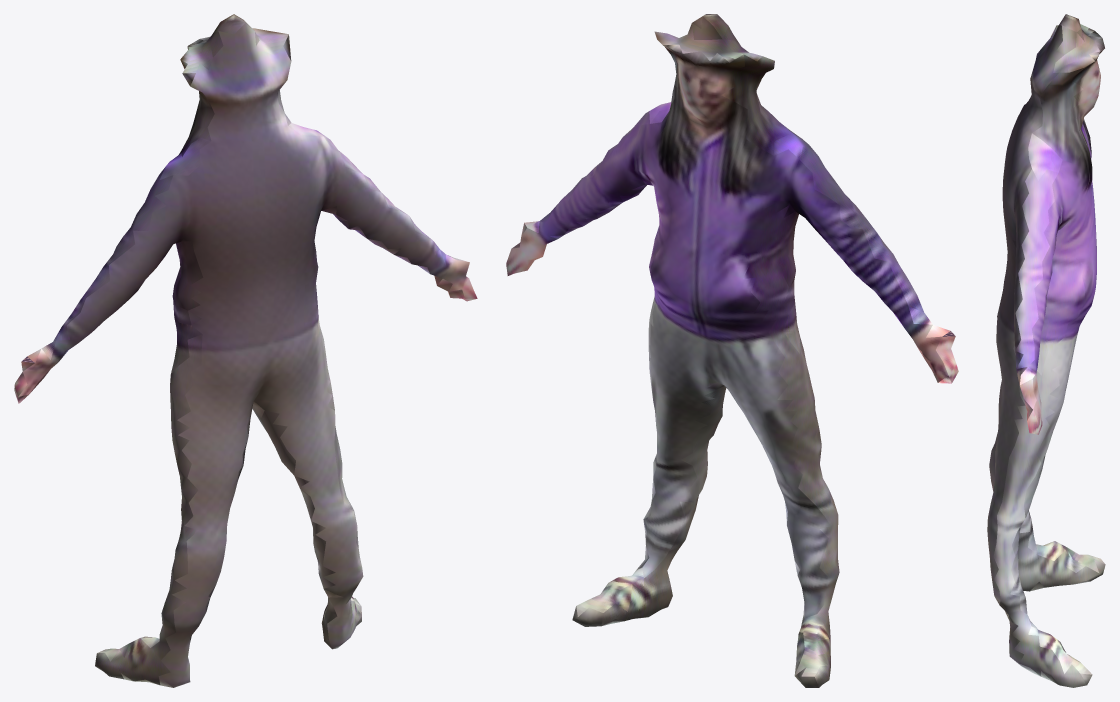
The picture shows the model from 3 angles, left to right: view 1: azimuth 30°, elevation 25°; view 2: azimuth 150°, elevation 25°; view 3: azimuth 270°, elevation 25°; orthographic projection. The views are drawn at different scales.
Parts seen in each view (by area): view 1: world; view 2: world; view 3: world.
Part boxes in pixels (x1,y1,x2,y2): world: [14, 14, 477, 687]; world: [506, 14, 958, 687]; world: [987, 14, 1105, 687].
Bounding box in the file's own units: 0.7488 × 0.9988 × 0.174.
1 material, 1 textured.
